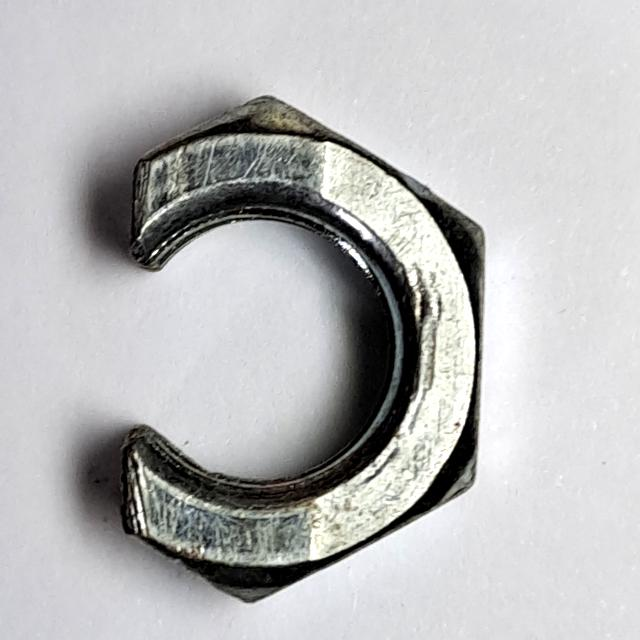Fracture: (105, 81, 499, 624)
